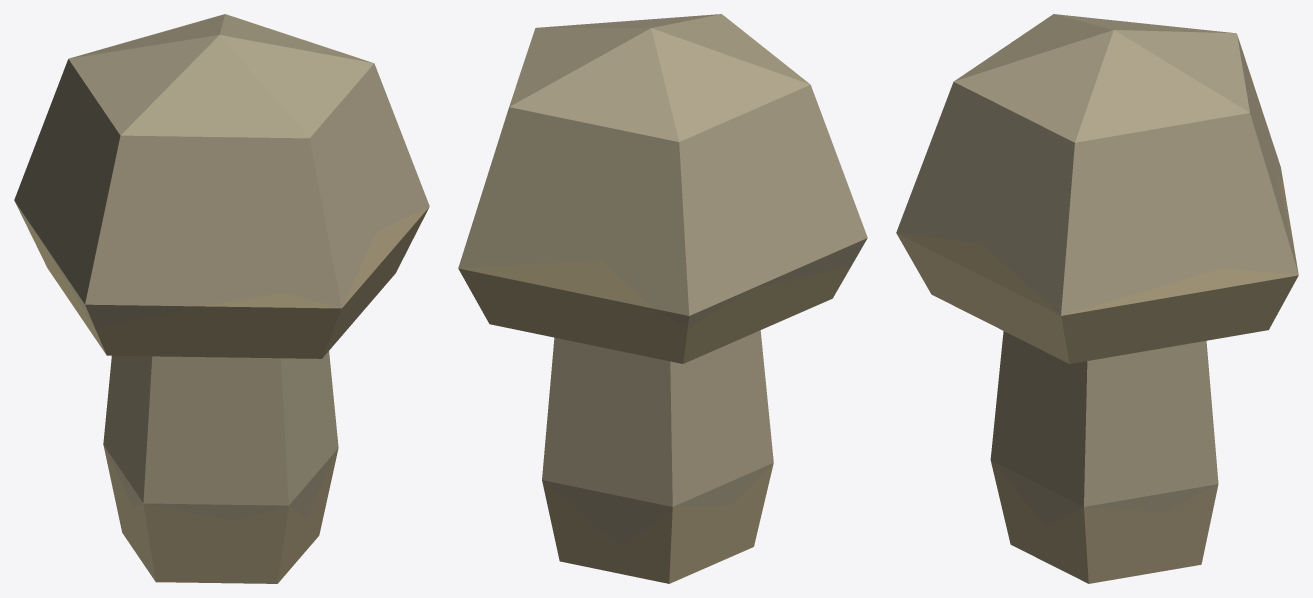
File: Mushroom_07.FBX
3 views of the same model, side by side, from view 1: azimuth 30°, elevation 25°; view 2: azimuth 150°, elevation 25°; view 3: azimuth 270°, elevation 25° (orthographic).
Parts seen in each view (by area): view 1: Mushroom_07; view 2: Mushroom_07; view 3: Mushroom_07.
Part boxes in pixels (box(x1,y1,x2,y2)): Mushroom_07: box(14, 14, 429, 583); Mushroom_07: box(458, 14, 867, 583); Mushroom_07: box(896, 14, 1298, 583).
Bounding box in the file's own units: 0.1459 × 0.199 × 0.1419.
